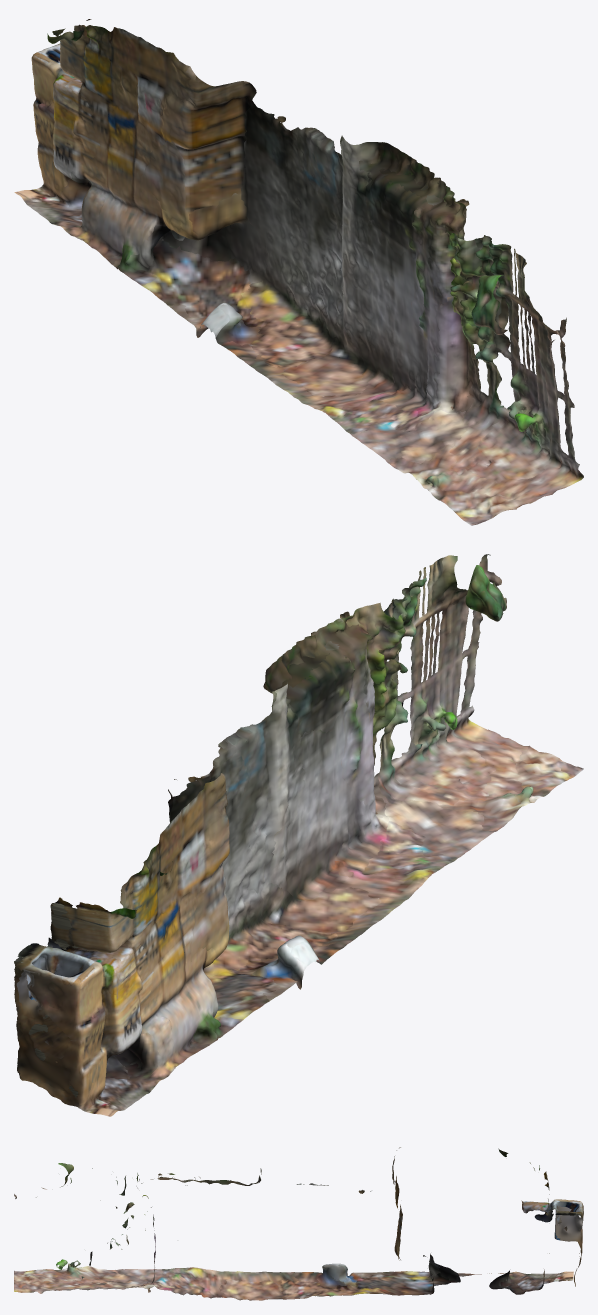
File: alley.glb
The picture shows the model from 3 angles, top to bottom: view 1: azimuth 30°, elevation 25°; view 2: azimuth 150°, elevation 25°; view 3: azimuth 270°, elevation 25°; orthographic projection. The views are drawn at different scales.
Parts seen in each view (by area): view 1: alleycat back_0; view 2: alleycat back_0; view 3: alleycat back_0.
Boxes of the visible parts, x1,y1,x2,y2 form: alleycat back_0: (14, 19, 583, 525); alleycat back_0: (14, 554, 583, 1116); alleycat back_0: (14, 1147, 583, 1300).
Bounding box in the file's own units: 1.14 × 2.13 × 7.69.
Materials: 1 (1 with a texture image).
